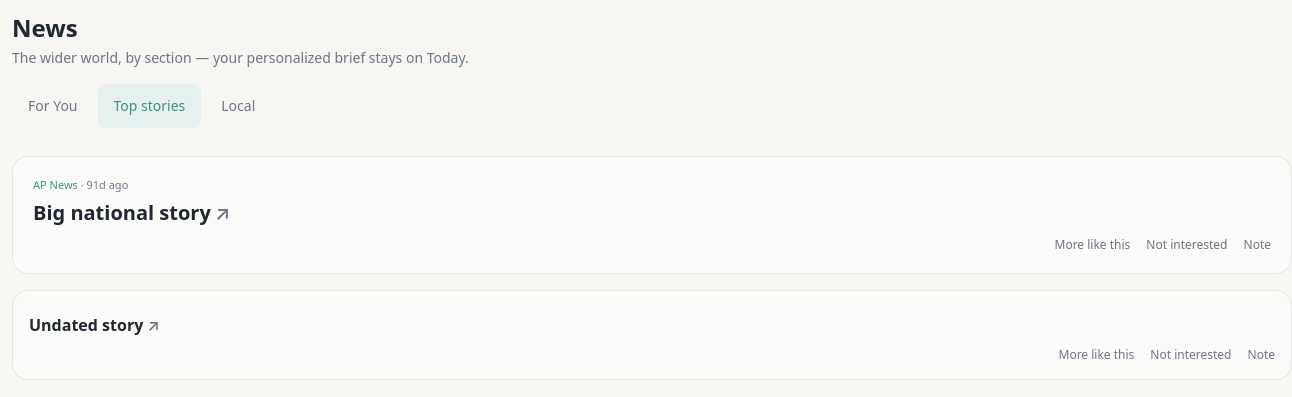
Test case: News (M7) › not-interested hides the card now and logs after the undo window (FR10)
Expected: the link "Big national story↗" is shown, [33, 199, 230, 226]
Click the button with aria-label "Not interested in Big national story".
click(1187, 245)  # box [1146, 237, 1228, 253]
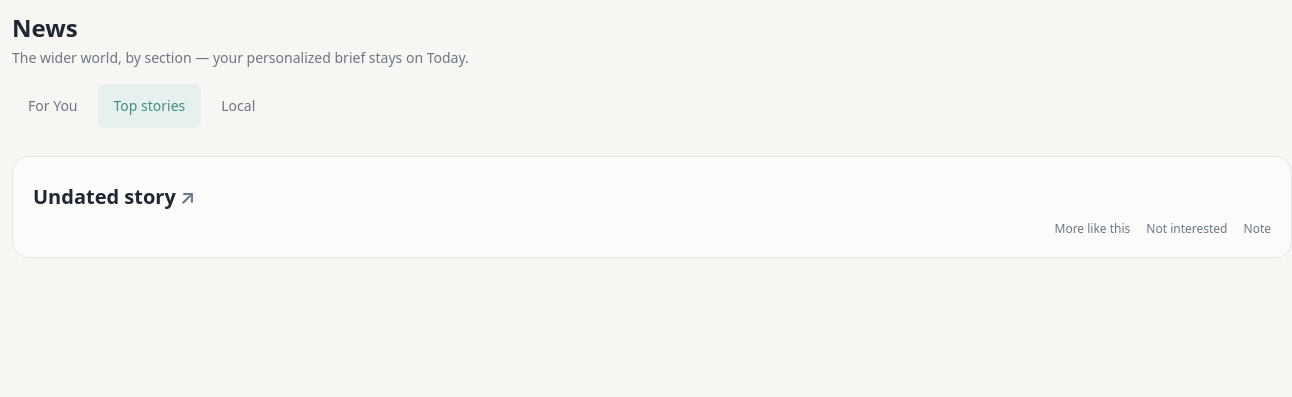
Expected: the link "Undated story↗" is shown, [33, 183, 195, 210]
Expected: the link "Big national story" is gone
